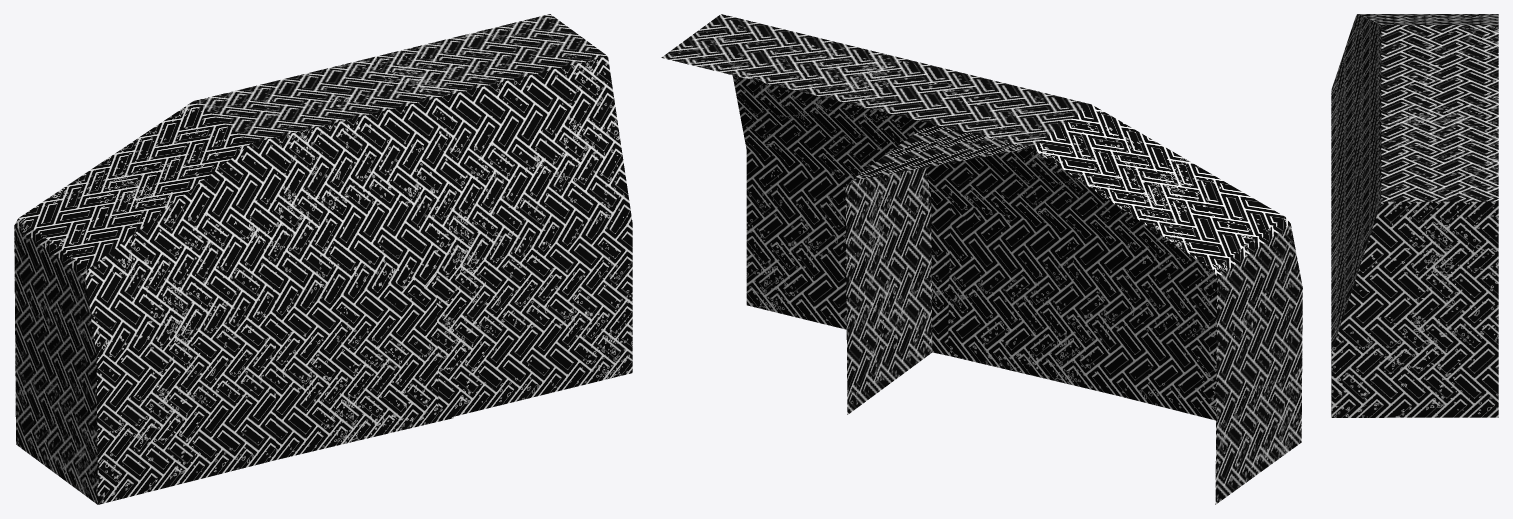
Rendered from SM_retaining_wall.fbx.
The picture shows the model from 3 angles, left to right: view 1: azimuth 30°, elevation 25°; view 2: azimuth 150°, elevation 25°; view 3: azimuth 270°, elevation 25°; orthographic projection. The views are drawn at different scales.
Parts seen in each view (by area): view 1: retaining_wall, retaining_wall_end_a, retaining_wall_end_b; view 2: retaining_wall, retaining_wall_end_a, retaining_wall_end_b; view 3: retaining_wall_end_b, retaining_wall, retaining_wall_end_a.
Part boxes in pixels (left/top/right/bottom): retaining_wall: left=194, top=14, right=632, bottom=420; retaining_wall_end_a: left=14, top=101, right=275, bottom=504; retaining_wall_end_b: left=251, top=143, right=453, bottom=459; retaining_wall: left=661, top=14, right=1116, bottom=395; retaining_wall_end_a: left=1032, top=104, right=1302, bottom=504; retaining_wall_end_b: left=845, top=126, right=1115, bottom=414; retaining_wall_end_b: left=1331, top=26, right=1498, bottom=417; retaining_wall: left=1331, top=25, right=1498, bottom=352; retaining_wall_end_a: left=1331, top=14, right=1498, bottom=175.
Size of the model in its own units: 7509 by 2004 by 4021.
Materials: 1 (1 with a texture image).
